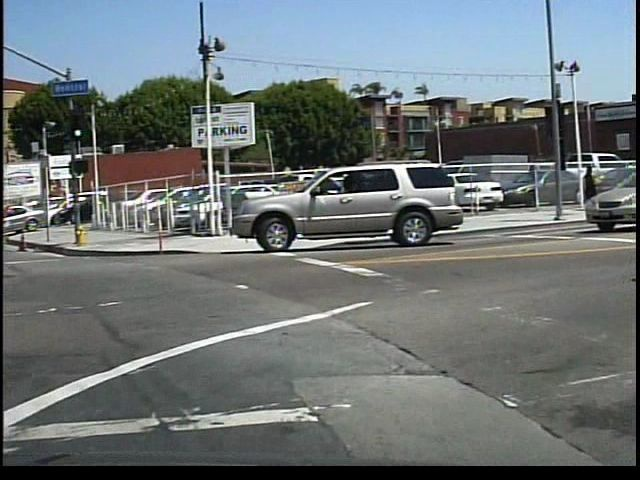person: (581, 163, 602, 214)
